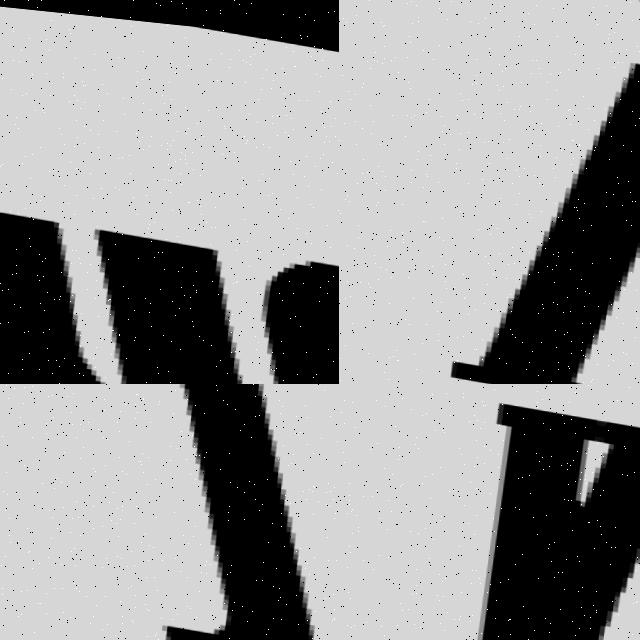1: (0, 384, 339, 640)
K: (427, 388, 640, 640)
M: (0, 186, 339, 384)
Y: (444, 0, 640, 384)
